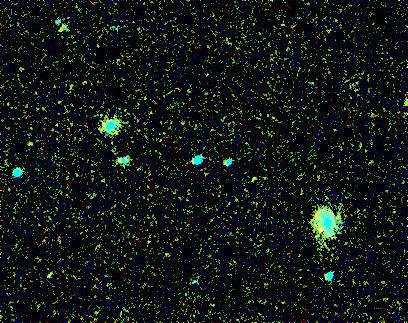star: (314, 208, 344, 238)
